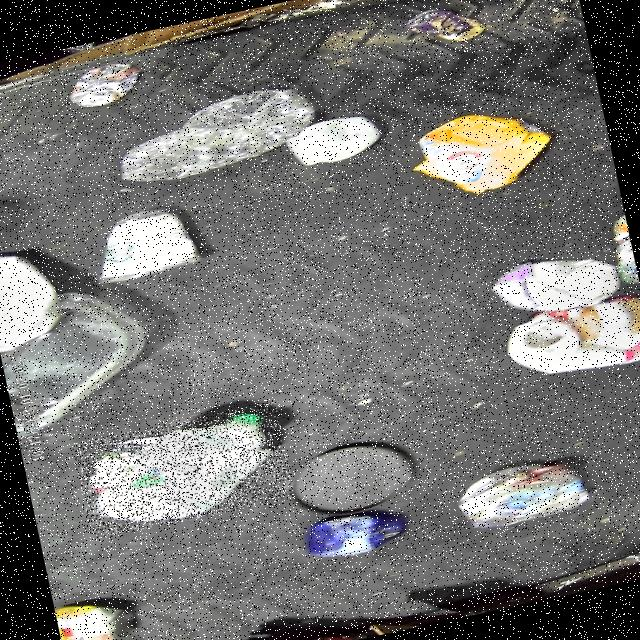milk-jug: (71, 399, 295, 539)
